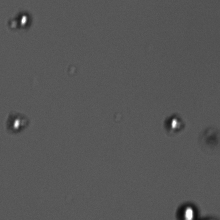Dead Cell: (200, 126, 218, 148)
Living Cell: (6, 111, 27, 133), (164, 112, 184, 134), (175, 201, 199, 218), (15, 10, 32, 30)
